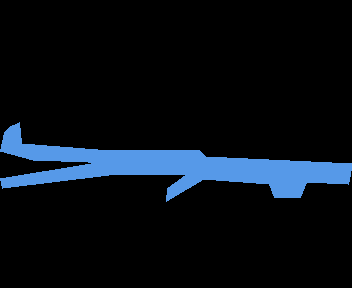Airplane: (0, 122, 352, 202)
